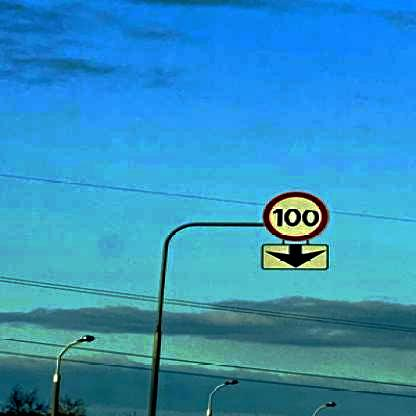Speed Limit -100-: (261, 191, 333, 242)
